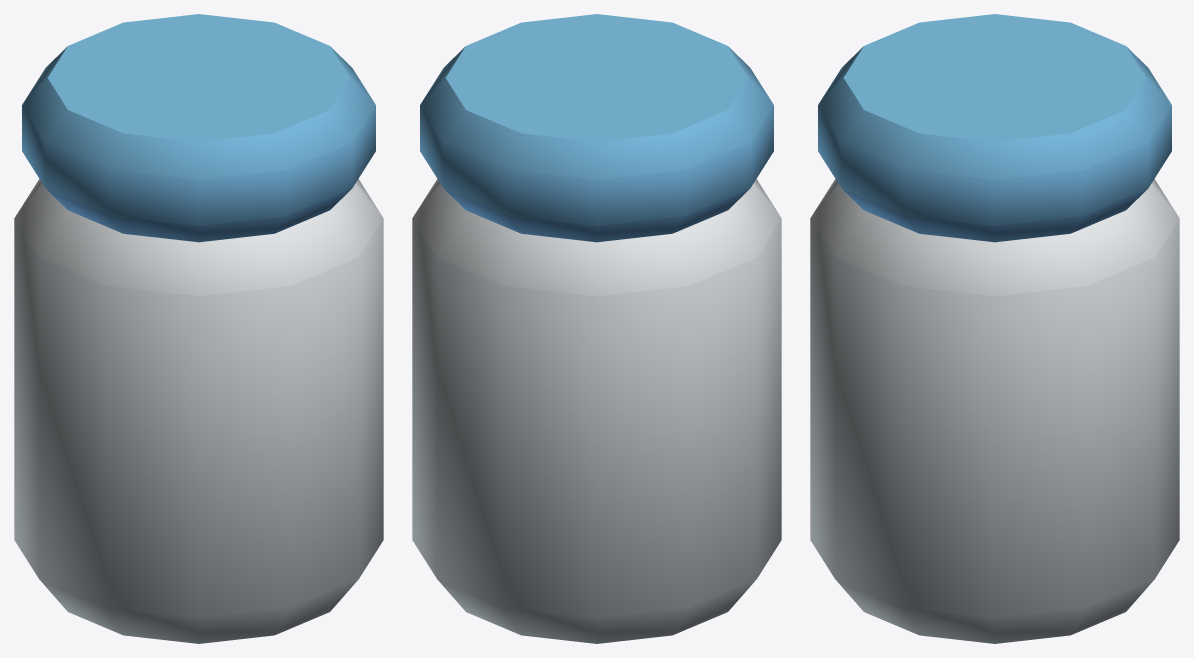
The model's file is jar_A_large.obj.
The picture shows the model from 3 angles, left to right: view 1: azimuth 30°, elevation 25°; view 2: azimuth 150°, elevation 25°; view 3: azimuth 270°, elevation 25°; orthographic projection.
Visible parts, largest first — view 1: jar_A_large_Cylinder.257; view 2: jar_A_large_Cylinder.257; view 3: jar_A_large_Cylinder.257.
Part boxes in pixels (bbox=[...]): jar_A_large_Cylinder.257: bbox=[14, 14, 383, 643]; jar_A_large_Cylinder.257: bbox=[412, 14, 781, 643]; jar_A_large_Cylinder.257: bbox=[810, 14, 1179, 643].
Bounding box in the file's own units: 0.5 × 0.75 × 0.5.
Materials: 1 (1 with a texture image).
